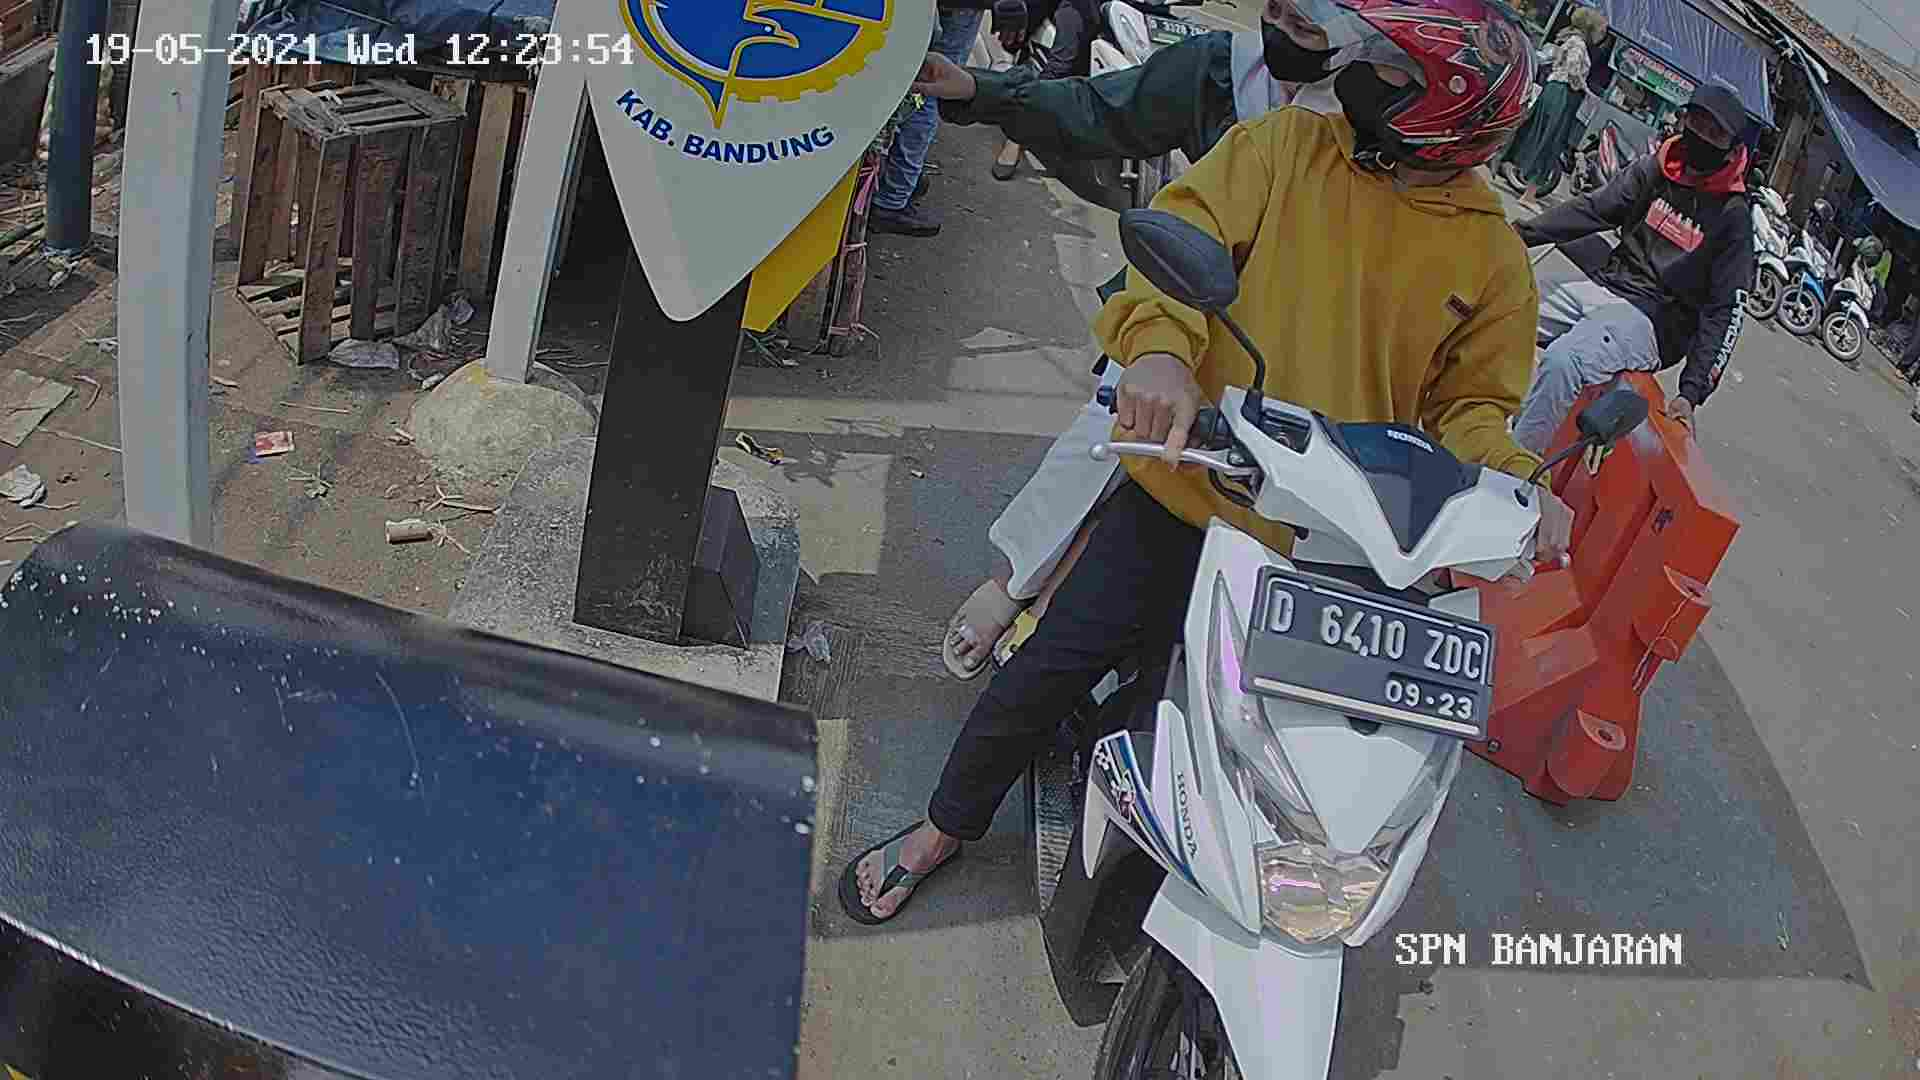motor: (1043, 344, 1543, 1080)
